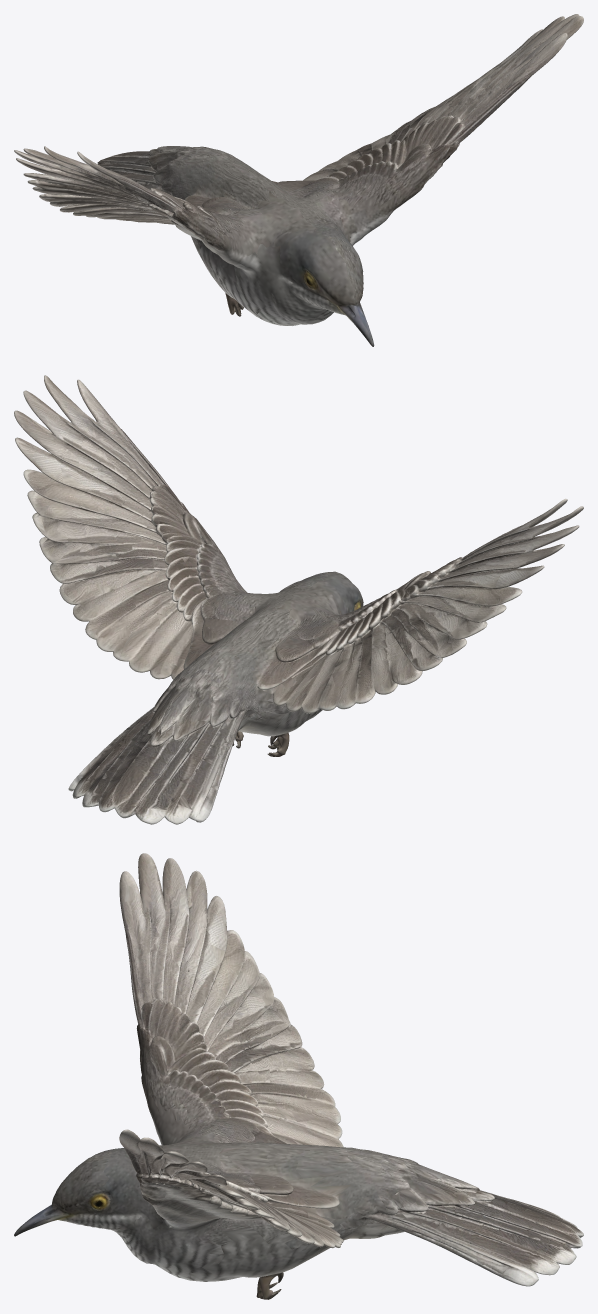
The model's file is Curruca_nisoria.glb.
3 views of the same model, one above another, from view 1: azimuth 30°, elevation 25°; view 2: azimuth 150°, elevation 25°; view 3: azimuth 270°, elevation 25° (orthographic). The views are drawn at different scales.
Parts seen in each view (by area): view 1: orient; view 2: orient; view 3: orient.
Part boxes in pixels (bbox=[...]): orient: bbox=[14, 14, 583, 346]; orient: bbox=[14, 375, 583, 824]; orient: bbox=[14, 853, 583, 1299].
Bounding box in the file's own units: 0.5001 × 0.2329 × 0.4092.
1 material, 1 textured.
